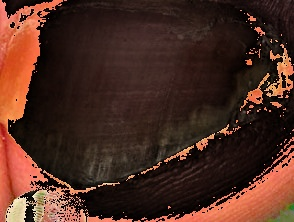Nail_psoriasis: (0, 0, 294, 198)
